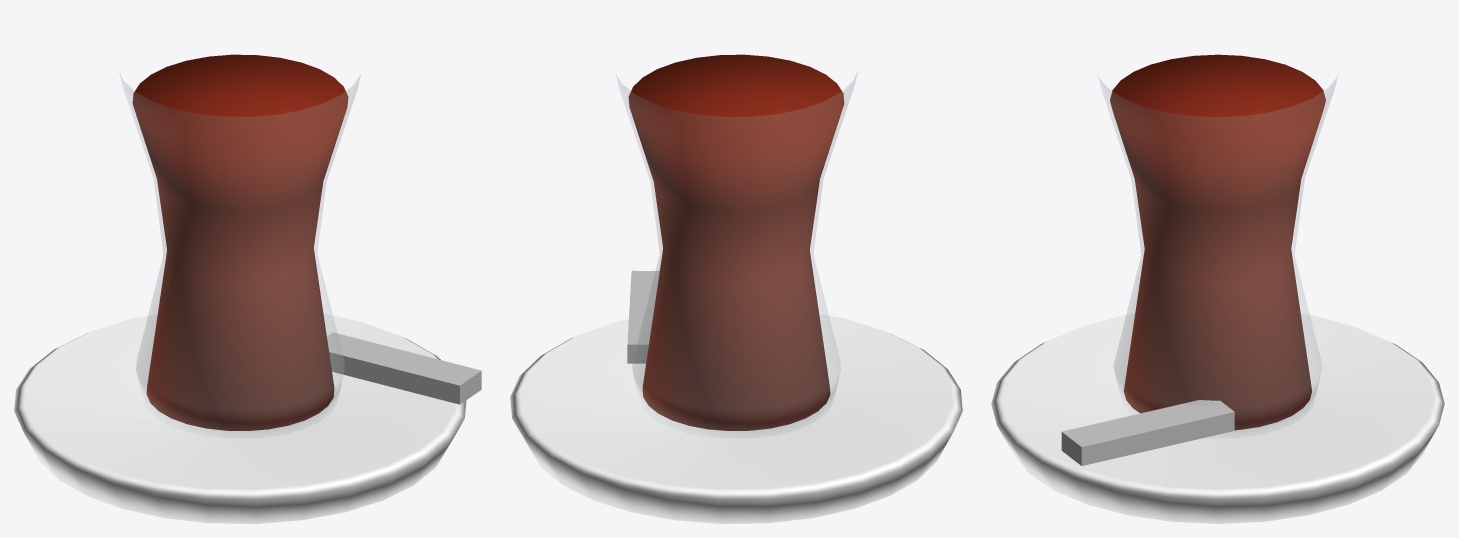
Rendered from cay.glb.
The picture shows the model from 3 angles, left to right: view 1: azimuth 30°, elevation 25°; view 2: azimuth 150°, elevation 25°; view 3: azimuth 270°, elevation 25°; orthographic projection.
Visible parts, largest first — view 1: cay-bardagi; view 2: cay-bardagi; view 3: cay-bardagi.
Boxes of the visible parts, x1,y1,x2,y2 form: cay-bardagi: (14,54,481,523); cay-bardagi: (510,54,962,523); cay-bardagi: (991,54,1444,523).
Bounding box in the file's own units: 0.13 × 0.117 × 0.13.
